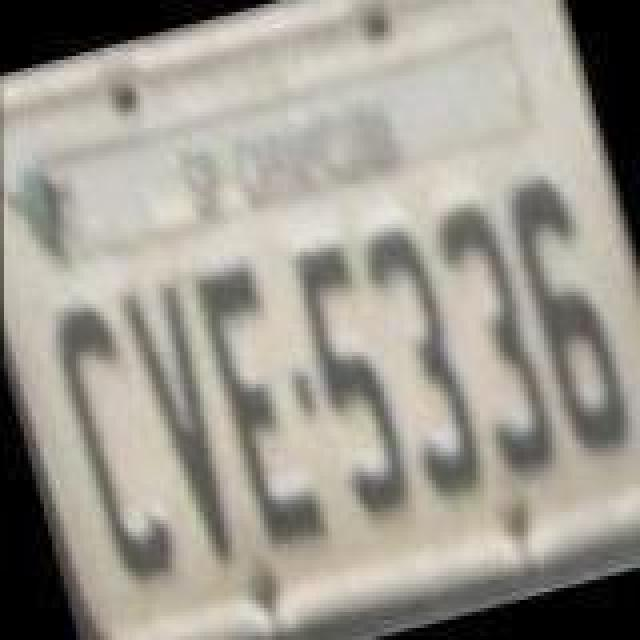3: (352, 210, 492, 510), (428, 190, 568, 490)
5: (280, 228, 420, 524)
6: (496, 160, 640, 464)
C: (44, 290, 184, 590)
E: (184, 254, 332, 562)
V: (114, 272, 250, 576)
